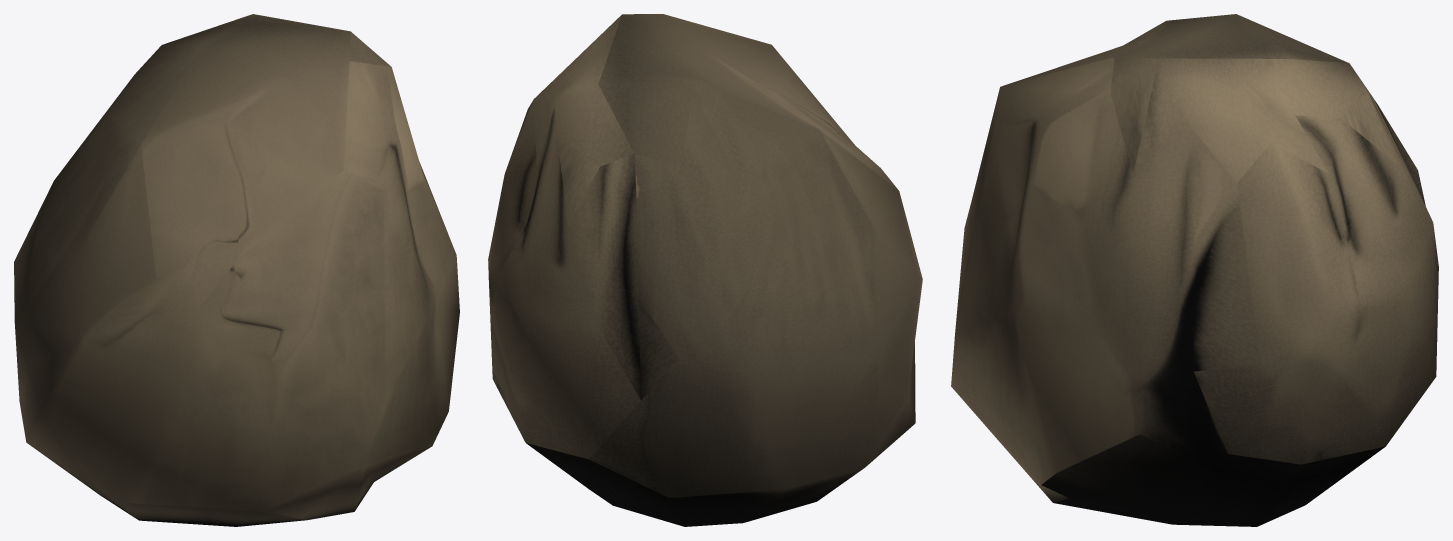
The model's file is stone.glb.
The picture shows the model from 3 angles, left to right: view 1: azimuth 30°, elevation 25°; view 2: azimuth 150°, elevation 25°; view 3: azimuth 270°, elevation 25°; orthographic projection. The views are drawn at different scales.
Visible parts, largest first — view 1: tmp46fa44gm.ply; view 2: tmp46fa44gm.ply; view 3: tmp46fa44gm.ply.
Boxes of the visible parts, <box> form: tmp46fa44gm.ply: <box>14,14,459,526</box>; tmp46fa44gm.ply: <box>488,14,922,526</box>; tmp46fa44gm.ply: <box>951,14,1438,526</box>.
Size of the model in its own units: 1.94 by 2 by 1.89.
Materials: 1 (1 with a texture image).
